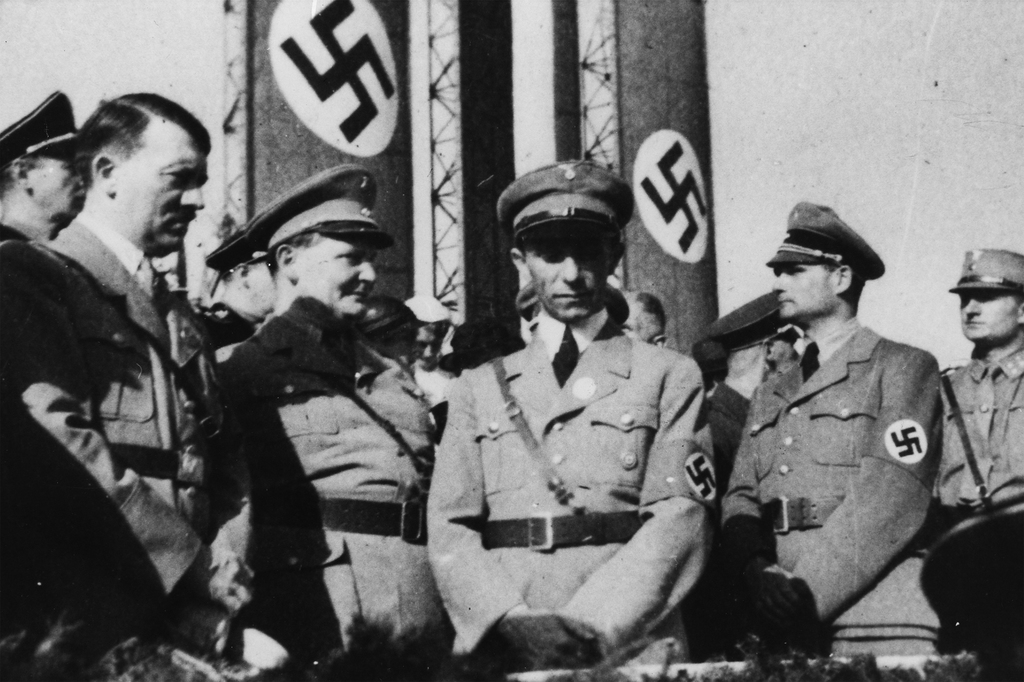person: (619, 285, 671, 347)
